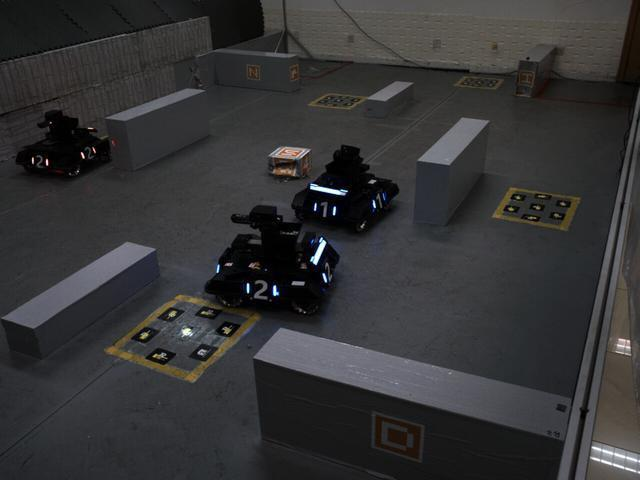armor: (240, 275, 282, 306), (310, 194, 340, 225), (317, 256, 341, 288), (364, 188, 390, 215), (24, 150, 54, 171), (77, 143, 101, 163)
